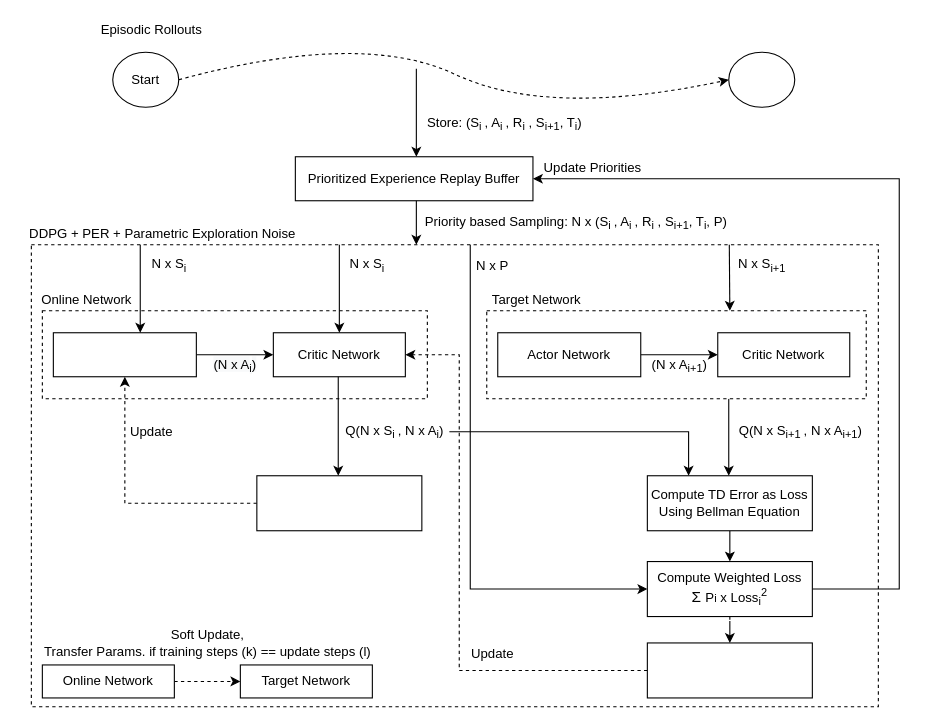
Image size: 927x726. Some labels were removed from this diagram. The box of each missing label's shape, as (x1, y1, x2, y2) in pixels:
Actor Network with Parametric Noise: (52, 332, 196, 377)
Compute Gradients ∇ Actor Network Params.: (256, 475, 422, 531)
Compute Gradients ∇ Critic Network Params.: (646, 642, 812, 698)
Stop: (728, 51, 795, 107)
